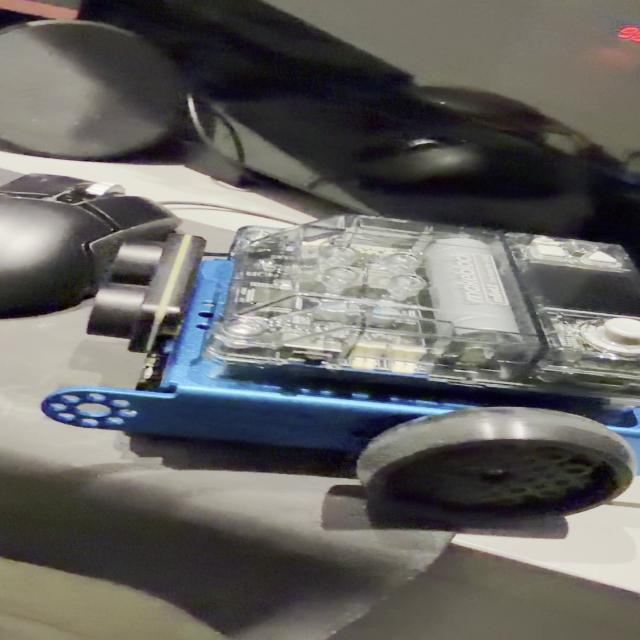mbot-detection: (31, 200, 640, 541)
